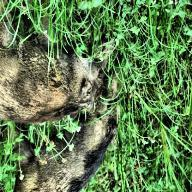boar: (0, 28, 112, 135), (34, 84, 122, 192)
